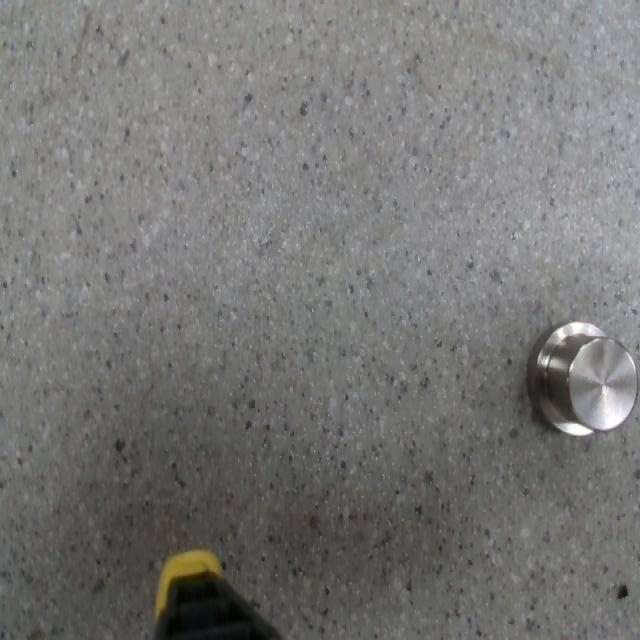sensor: (525, 322, 636, 435)
